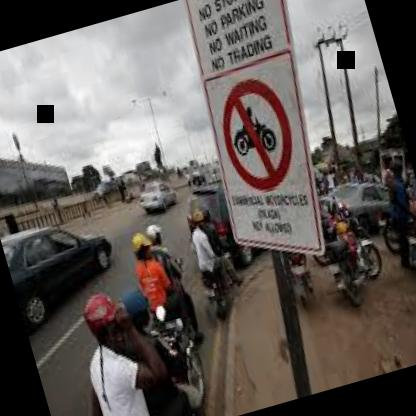car: (168, 166, 298, 328), (0, 186, 130, 327), (324, 157, 416, 244), (122, 164, 181, 226)
